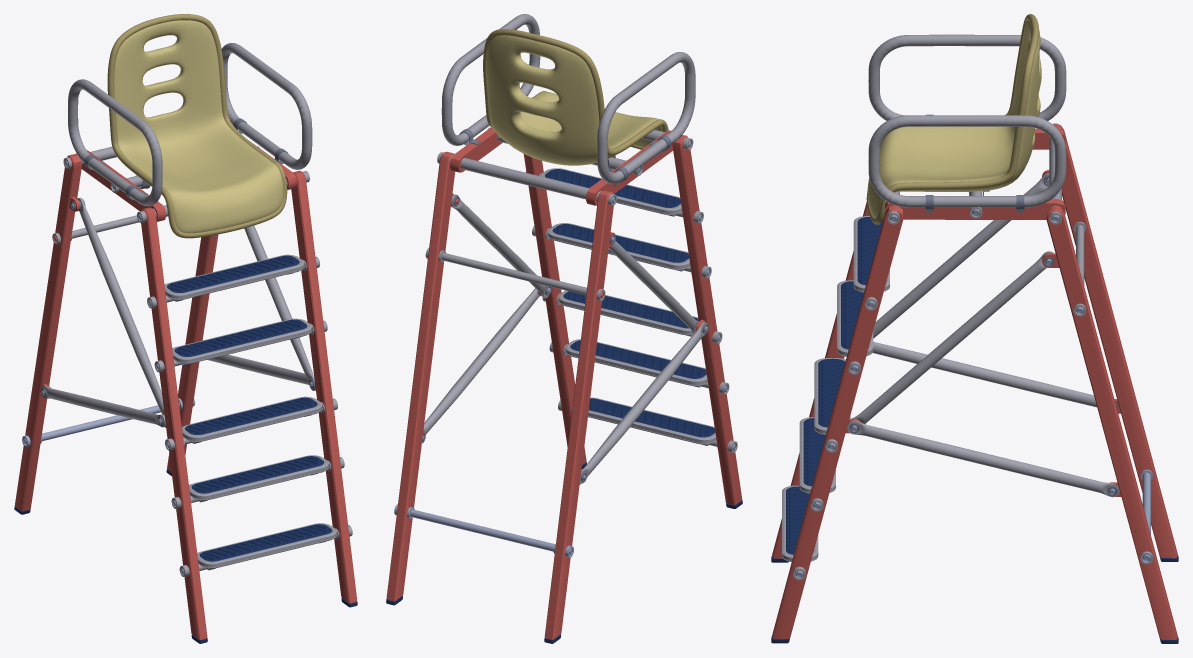
The model's file is lifeguard_tower.glb.
3 views of the same model, side by side, from view 1: azimuth 30°, elevation 25°; view 2: azimuth 150°, elevation 25°; view 3: azimuth 270°, elevation 25° (orthographic). The views are drawn at different scales.
Parts seen in each view (by area): view 1: Cube (4); view 2: Cube (4); view 3: Cube (4).
Boxes of the visible parts, x1,y1,x2,y2 form: Cube (4): [14, 14, 357, 643]; Cube (4): [386, 14, 742, 643]; Cube (4): [771, 14, 1178, 643].
Bounding box in the file's own units: 1.17 × 3.45 × 2.22.
